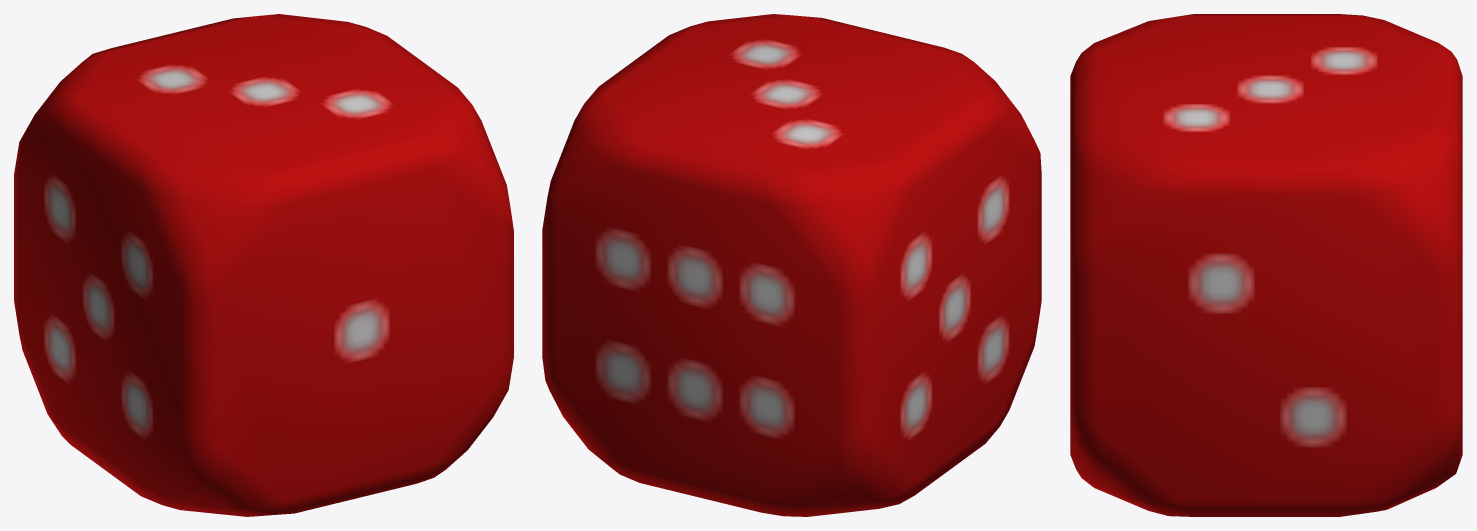
3 views of the same model, side by side, from view 1: azimuth 30°, elevation 25°; view 2: azimuth 150°, elevation 25°; view 3: azimuth 270°, elevation 25° (orthographic). The views are drawn at different scales.
Visible parts, largest first — view 1: smMAT0110008; view 2: smMAT0110008; view 3: smMAT0110008.
Boxes of the visible parts, x1,y1,x2,y2 form: smMAT0110008: (14, 14, 513, 516); smMAT0110008: (542, 14, 1041, 516); smMAT0110008: (1070, 14, 1462, 516).
Size of the model in its own units: 14.26 by 14.26 by 14.26.
Materials: 1 (1 with a texture image).
